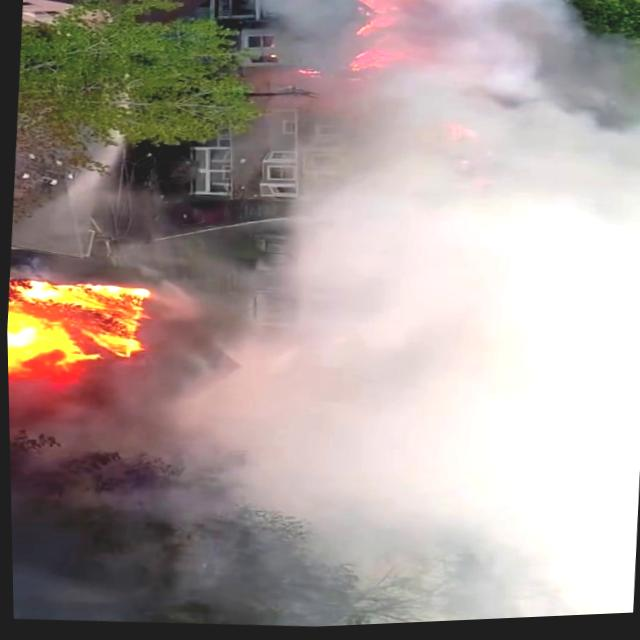fire: (5, 265, 143, 395)
smoke: (388, 33, 640, 464)
